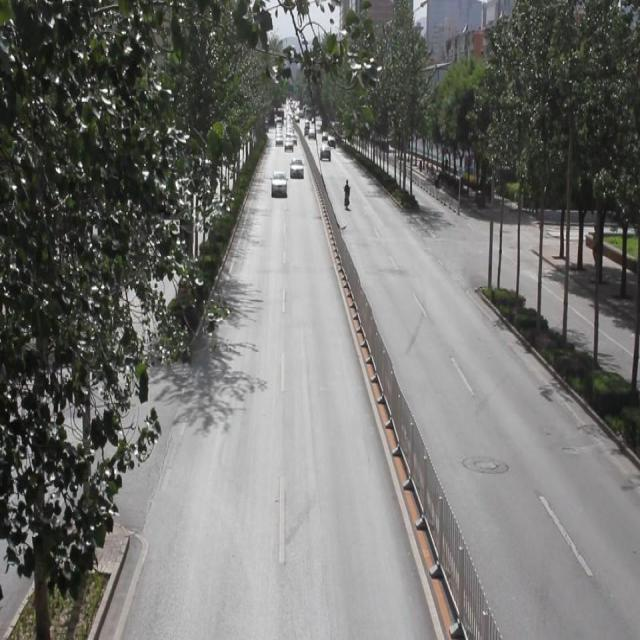car: (286, 152, 315, 186), (269, 165, 288, 206), (318, 141, 336, 171)
